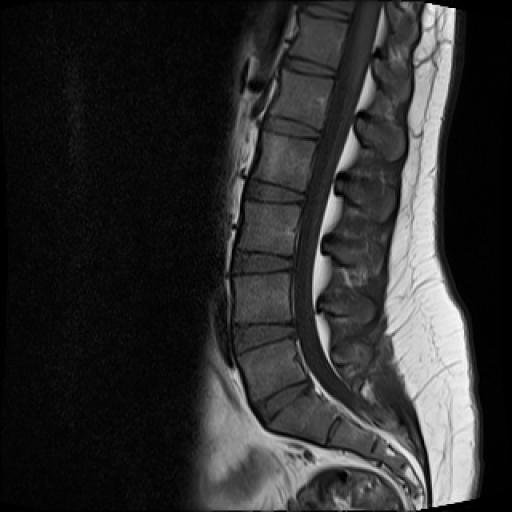L1: (270, 69, 332, 130)
L2: (252, 132, 315, 190)
L3: (237, 200, 300, 256)
L4: (233, 273, 292, 324)
L5: (237, 338, 309, 402)
S1: (266, 388, 341, 445)
